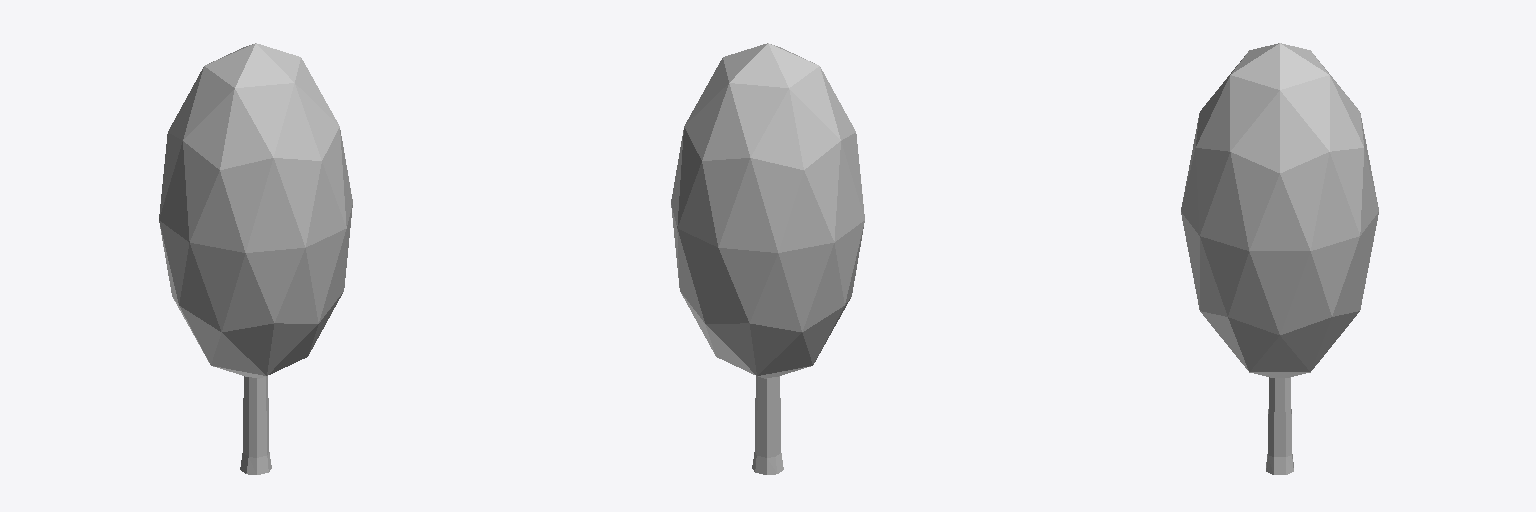
File: Tree_Cedar_2.obj
3 renders of one model, left to right at view 1: azimuth 30°, elevation 25°; view 2: azimuth 150°, elevation 25°; view 3: azimuth 270°, elevation 25°, orthographic.
Visible parts, largest first — view 1: Icosphere.037_Icosphere.142, Cube.085_Cube.283; view 2: Icosphere.037_Icosphere.142, Cube.085_Cube.283; view 3: Icosphere.037_Icosphere.142, Cube.085_Cube.283.
Boxes of the visible parts, x1,y1,x2,y2 form: Icosphere.037_Icosphere.142: [159, 43, 352, 378]; Cube.085_Cube.283: [240, 376, 271, 474]; Icosphere.037_Icosphere.142: [671, 43, 864, 378]; Cube.085_Cube.283: [752, 376, 783, 474]; Icosphere.037_Icosphere.142: [1181, 43, 1378, 377]; Cube.085_Cube.283: [1266, 377, 1293, 474].
Bounding box in the file's own units: 1.53 × 3.81 × 1.61.